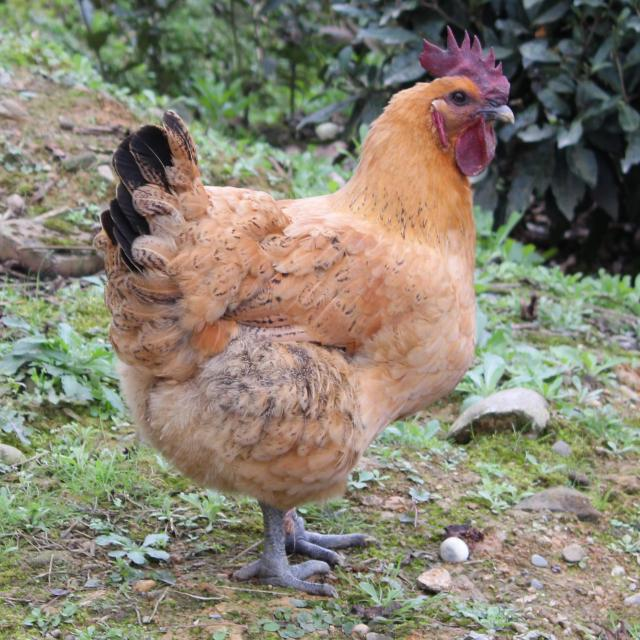hen: (44, 0, 525, 614)
